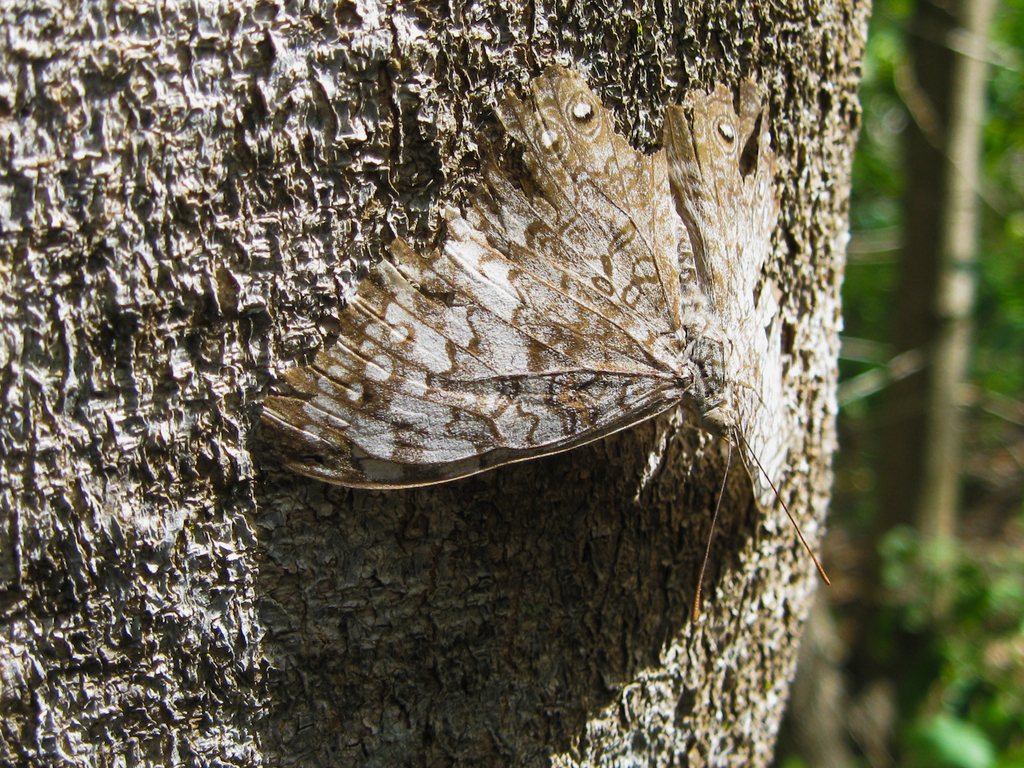Butterfly: (227, 84, 834, 584)
